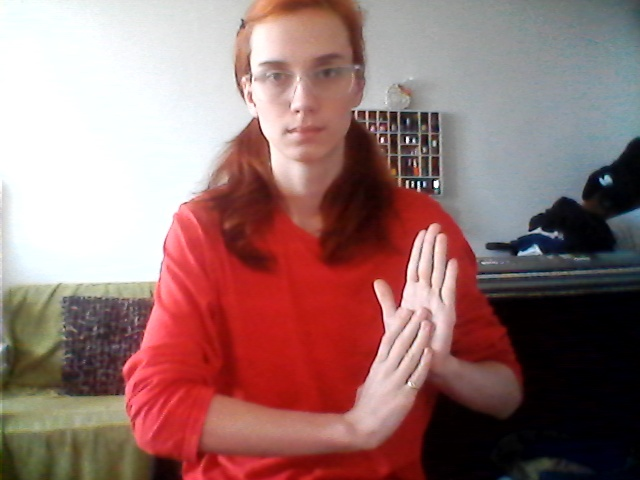m: (347, 221, 463, 453)
